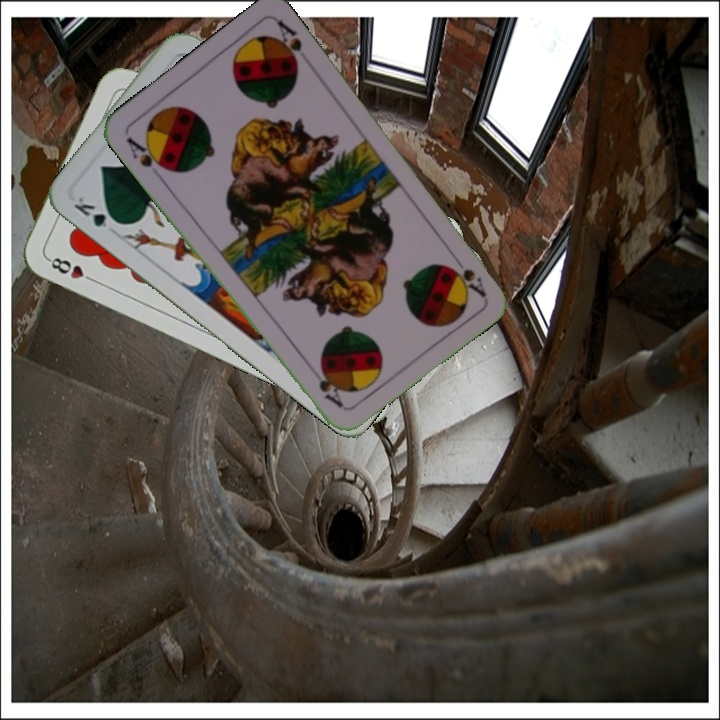GK: (69, 192, 124, 237)
H8: (43, 253, 99, 285)
SA: (446, 248, 488, 300), (122, 133, 172, 174)
